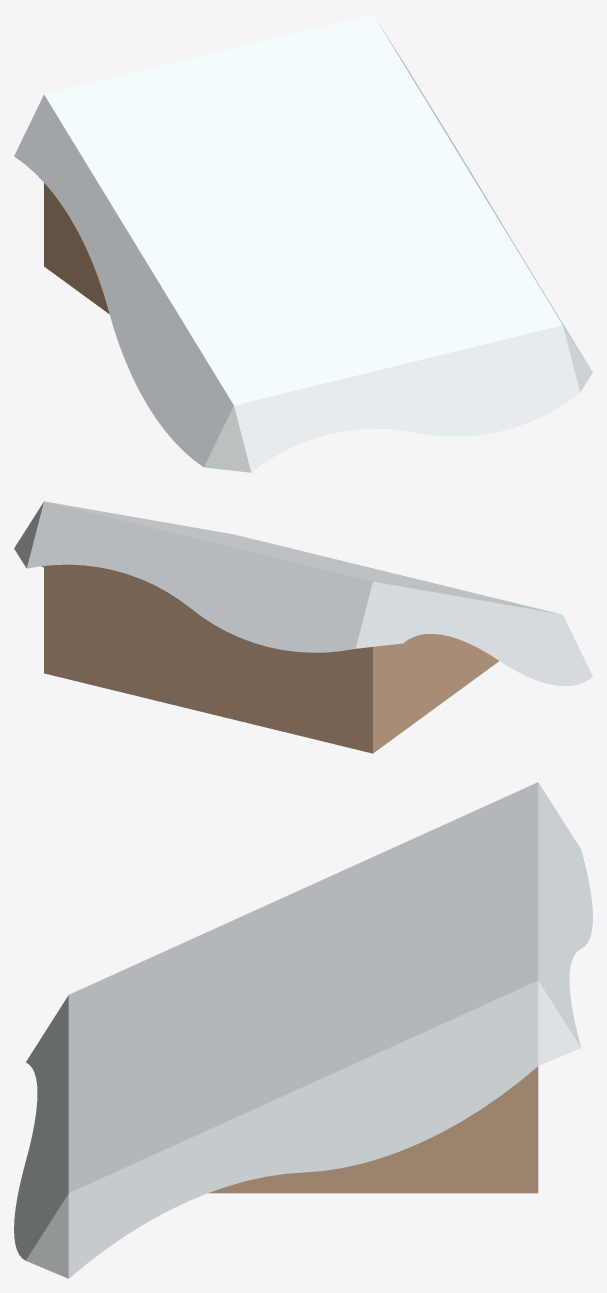
3 renders of one model, top to bottom at view 1: azimuth 30°, elevation 25°; view 2: azimuth 150°, elevation 25°; view 3: azimuth 270°, elevation 25°, orthographic. The views are drawn at different scales.
Visible parts, largest first — view 1: blockSnowSlopeHalf; view 2: blockSnowSlopeHalf; view 3: blockSnowSlopeHalf.
Boxes of the visible parts, <box> form: blockSnowSlopeHalf: <box>14,14,592,472</box>; blockSnowSlopeHalf: <box>14,501,592,753</box>; blockSnowSlopeHalf: <box>14,782,592,1278</box>.
Bounding box in the file's own units: 1.23 × 0.7018 × 1.23.
